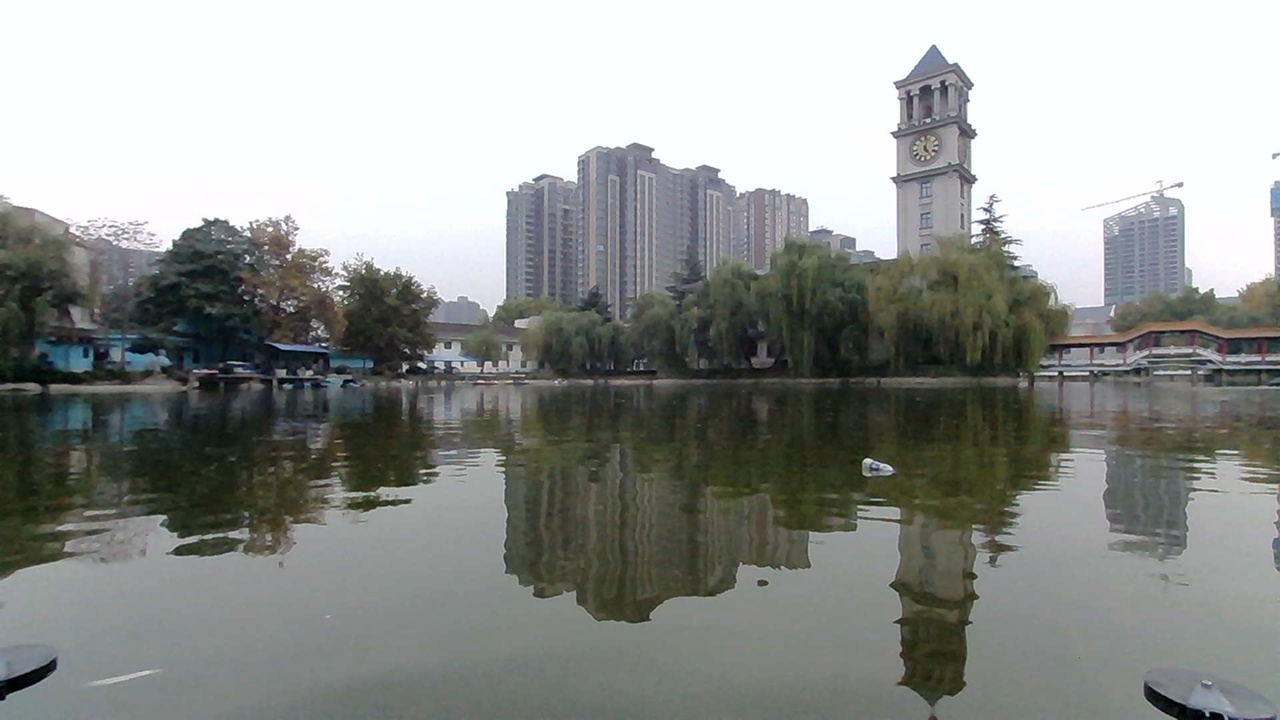bottle: (854, 452, 893, 482)
